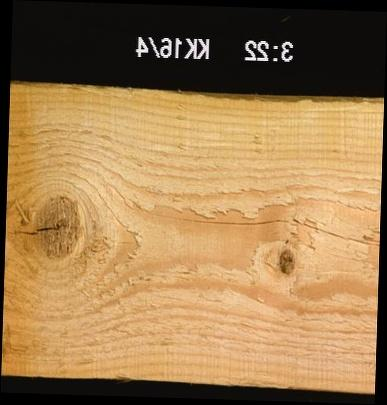sound_knot: (5, 190, 83, 264), (276, 246, 298, 276)
split: (117, 198, 379, 244)
wave: (88, 89, 383, 109)
